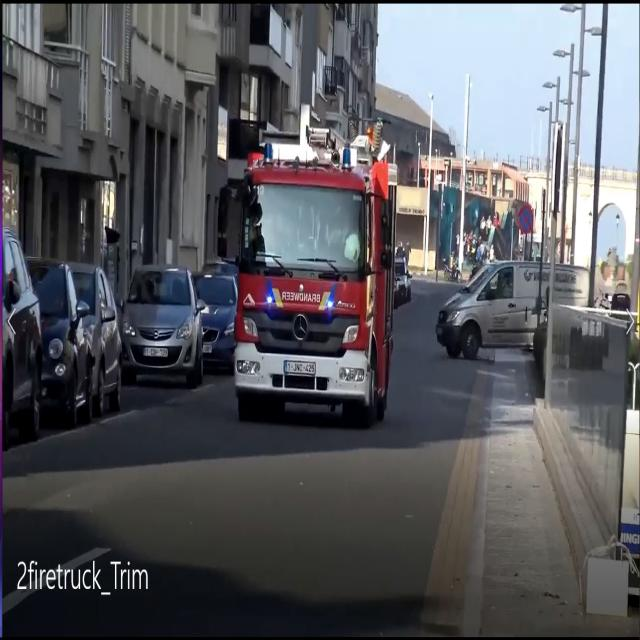emergency: (222, 129, 400, 425)
